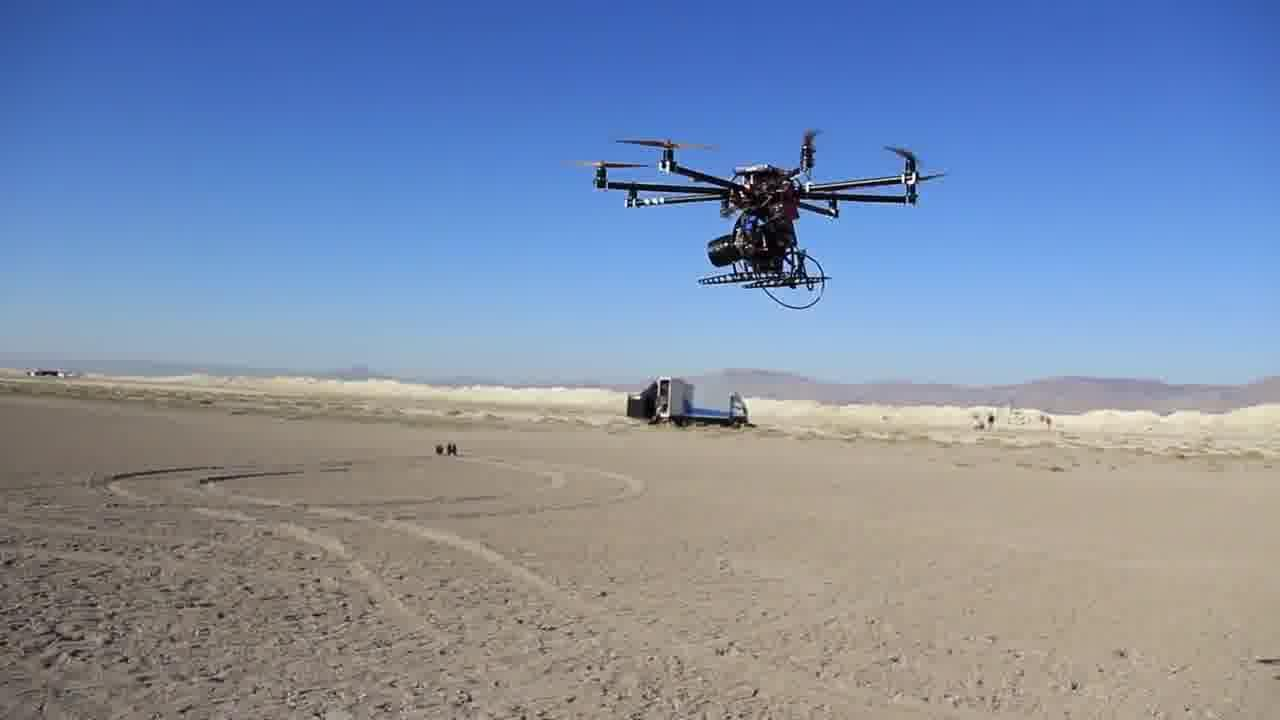drone: (593, 121, 851, 284)
